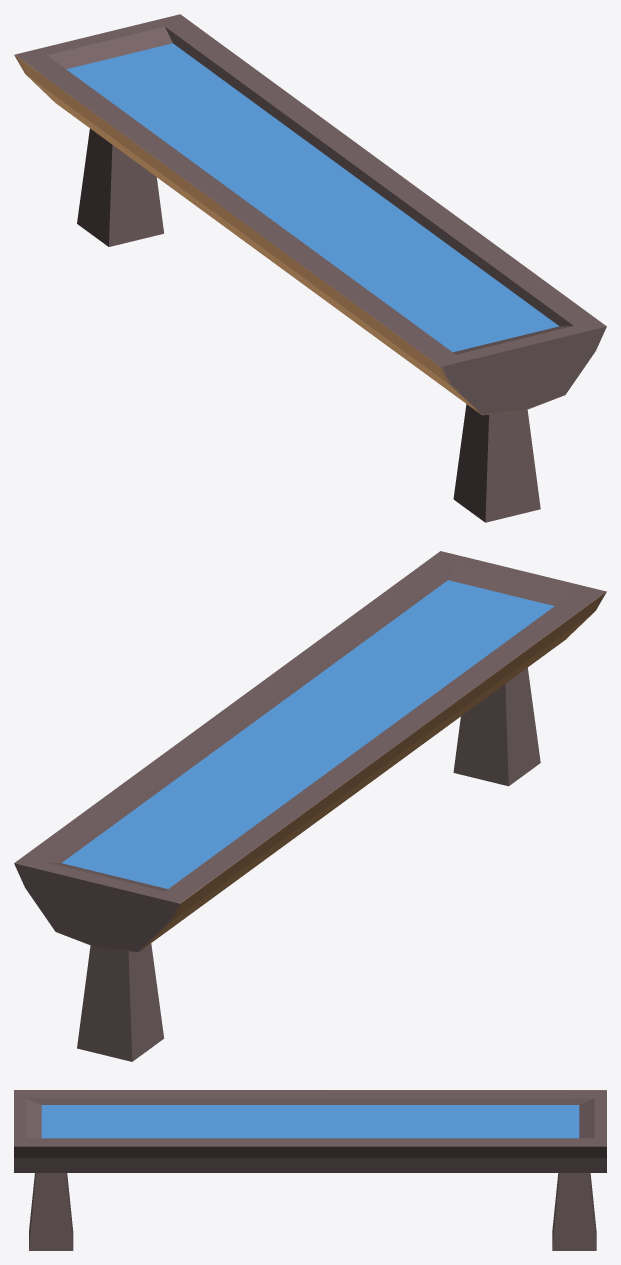
The model's file is FBX_Aguadero.fbx.
3 views of the same model, one above another, from view 1: azimuth 30°, elevation 25°; view 2: azimuth 150°, elevation 25°; view 3: azimuth 270°, elevation 25° (orthographic). The views are drawn at different scales.
Visible parts, largest first — view 1: pCube23; view 2: pCube23; view 3: pCube23.
Boxes of the visible parts, bbox=[...] form: pCube23: bbox=[14, 14, 606, 522]; pCube23: bbox=[14, 551, 606, 1061]; pCube23: bbox=[14, 1090, 606, 1250].
Size of the model in its own units: 23.89 by 24.3 by 106.
